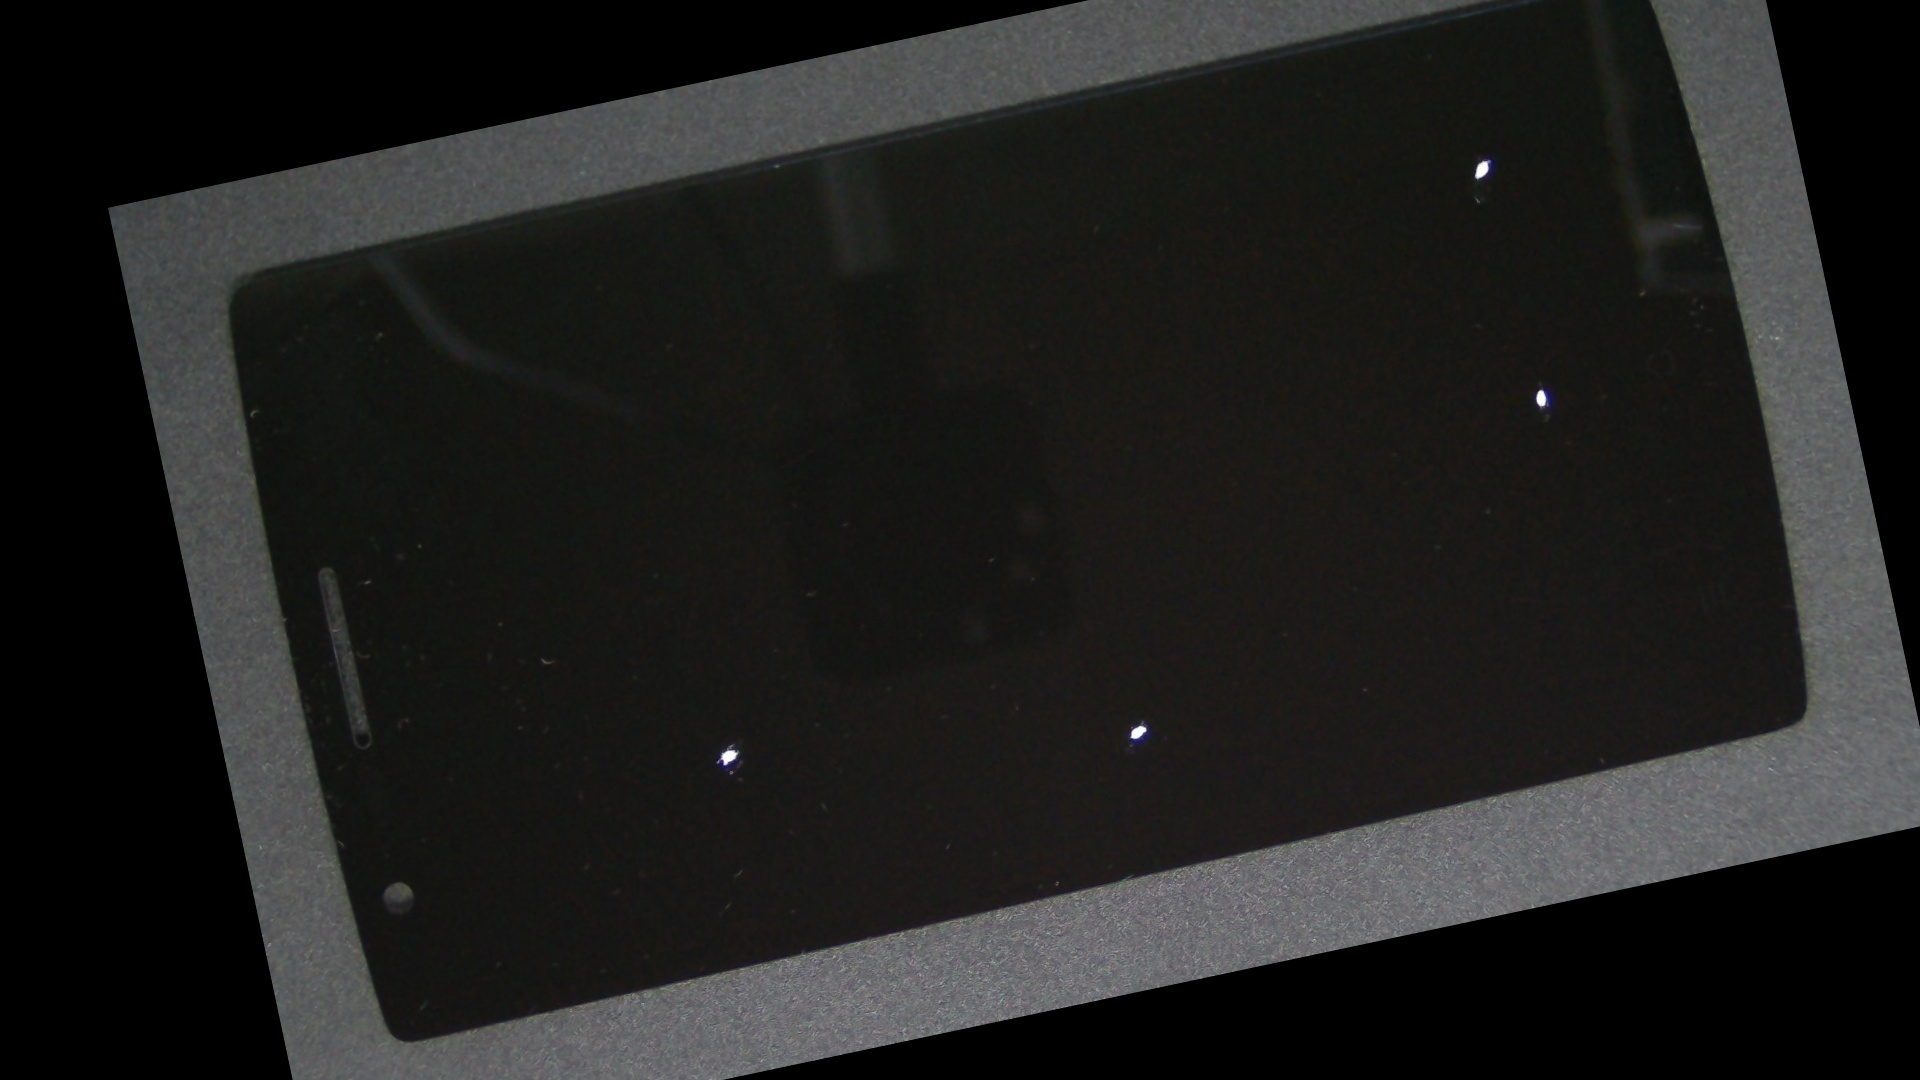oil: (625, 276, 1638, 1073), (824, 94, 1884, 762), (421, 372, 1046, 1080), (423, 380, 1048, 1080), (795, 0, 1811, 415)
